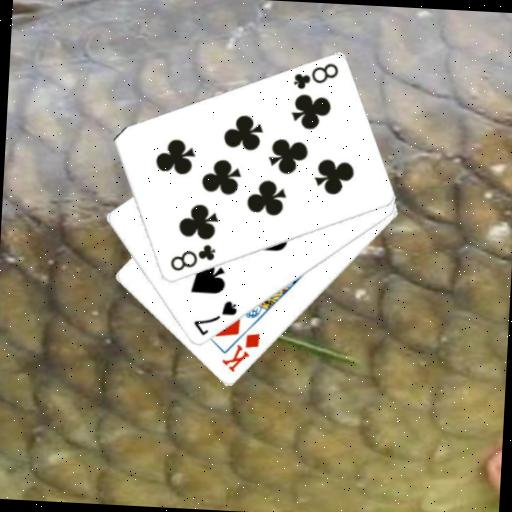7S: (190, 297, 240, 340)
8C: (166, 239, 218, 275), (289, 59, 341, 94)
KD: (218, 328, 262, 376)
